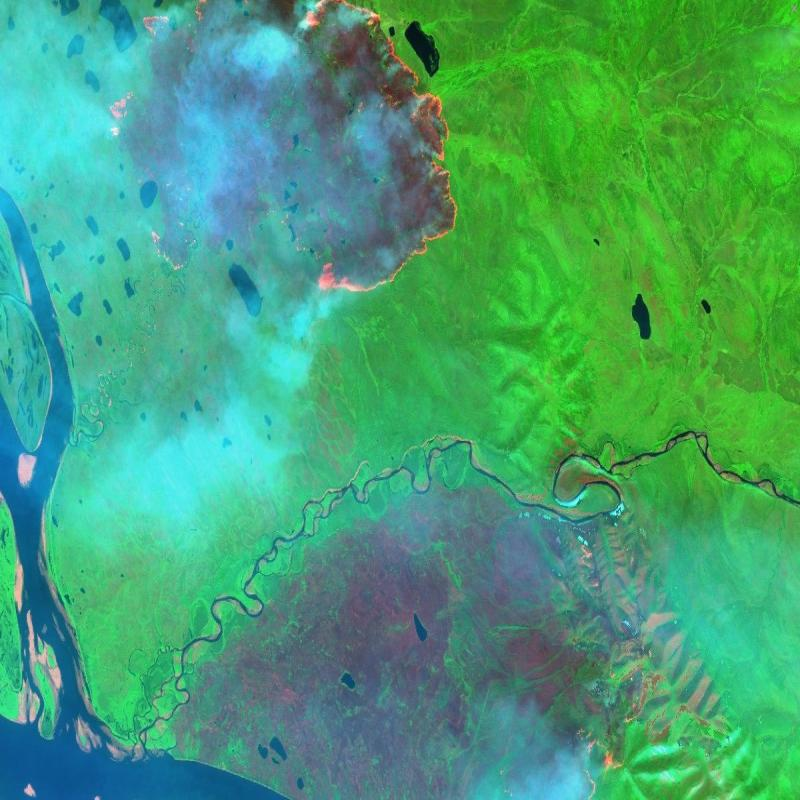fire: (100, 0, 462, 327), (564, 657, 645, 800)
